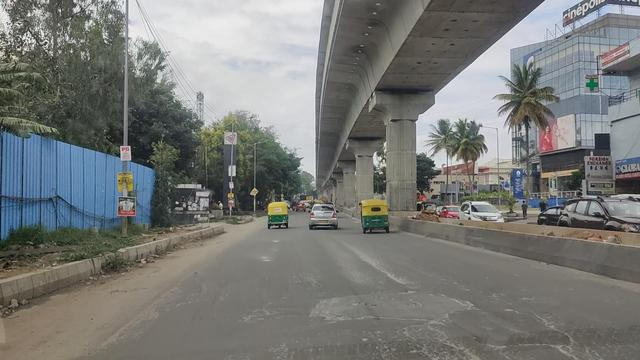LMV: (362, 200, 390, 236), (311, 203, 339, 230), (266, 201, 288, 229)
RoadDamages: (307, 289, 476, 327), (478, 320, 587, 360), (391, 331, 463, 360)
